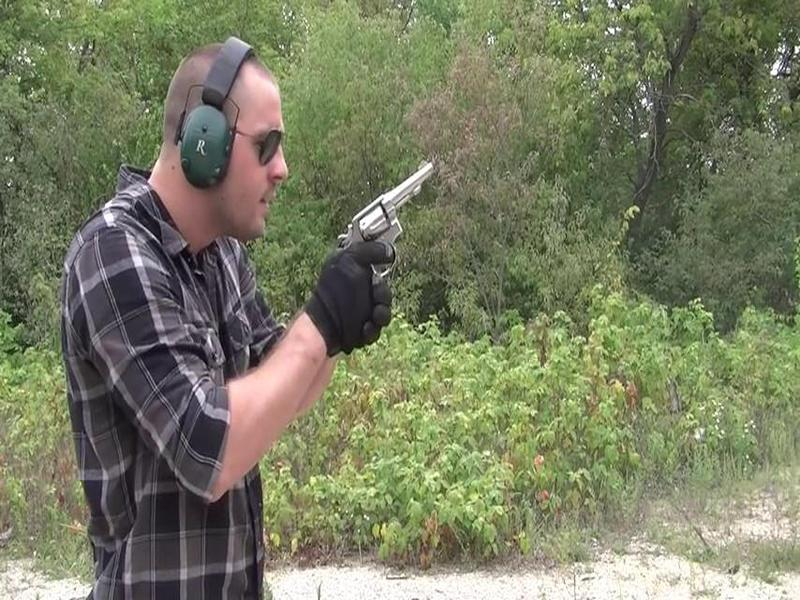Revolver: (337, 146, 434, 275)
